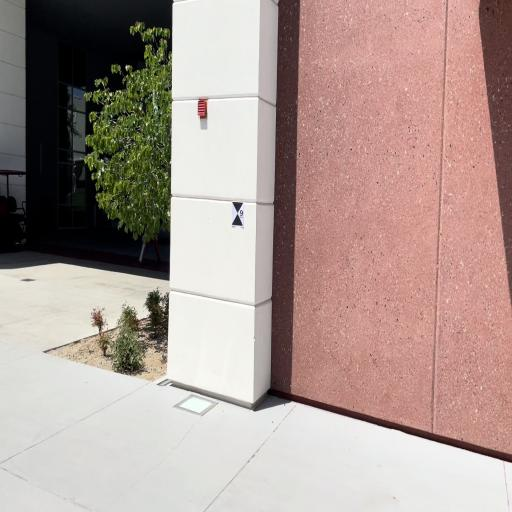target9: (232, 202, 244, 228)
